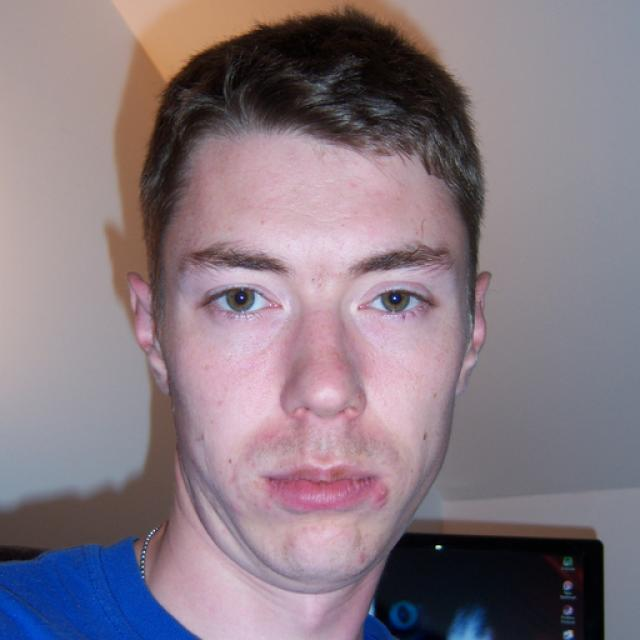Acne: (371, 487, 395, 503)
